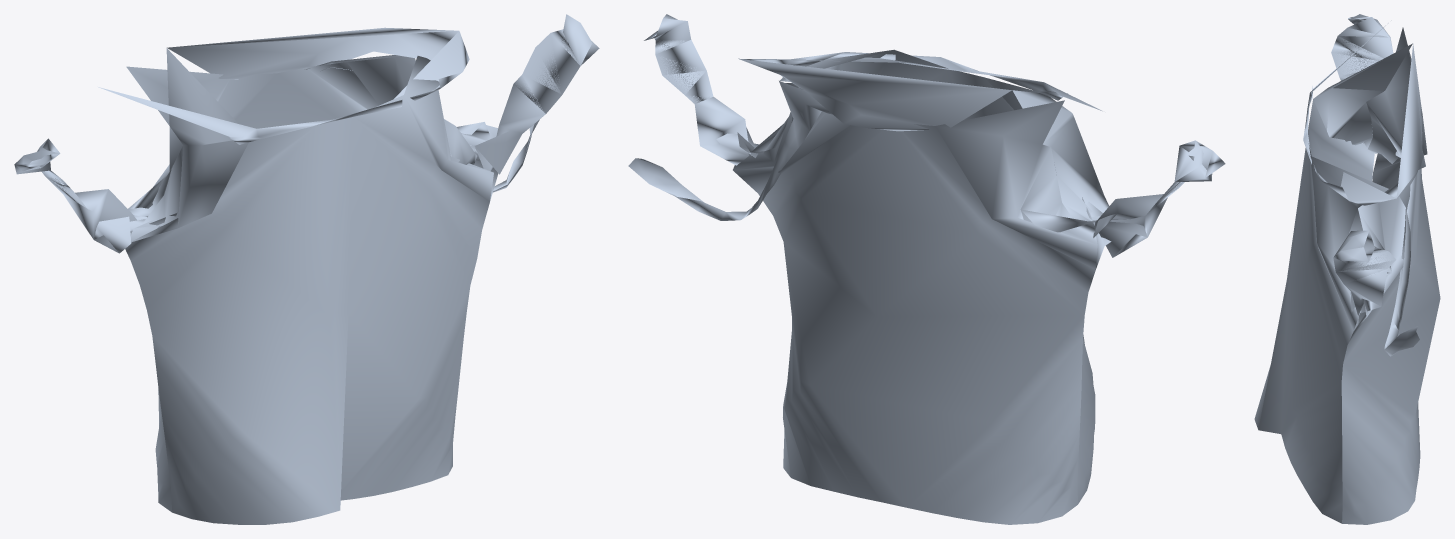
The model's file is frame_036.glb.
The picture shows the model from 3 angles, left to right: view 1: azimuth 30°, elevation 25°; view 2: azimuth 150°, elevation 25°; view 3: azimuth 270°, elevation 25°; orthographic projection. The views are drawn at different scales.
Parts seen in each view (by area): view 1: panel.front, panel.back, panel.neck_band, panel.sleeve.right, panel.sleeve.left; view 2: panel.back, panel.neck_band, panel.front, panel.sleeve.right, panel.sleeve.left; view 3: panel.front, panel.back, panel.neck_band, panel.sleeve.right, panel.sleeve.left.
Boxes of the visible parts, bbox=[...] form: panel.front: bbox=[125, 48, 493, 524]; panel.back: bbox=[126, 56, 498, 512]; panel.neck_band: bbox=[98, 27, 539, 192]; panel.sleeve.right: bbox=[475, 14, 599, 174]; panel.sleeve.left: bbox=[14, 138, 136, 253]; panel.back: bbox=[733, 83, 1097, 524]; panel.neck_band: bbox=[628, 52, 1102, 220]; panel.front: bbox=[780, 49, 1111, 503]; panel.sleeve.right: bbox=[644, 14, 753, 165]; panel.sleeve.left: bbox=[1093, 140, 1225, 257]; panel.front: bbox=[1254, 43, 1412, 523]; panel.back: bbox=[1341, 27, 1440, 524]; panel.neck_band: bbox=[1303, 20, 1425, 356]; panel.sleeve.right: bbox=[1333, 230, 1395, 315]; panel.sleeve.left: bbox=[1331, 14, 1393, 142].
Bounding box in the file's own units: 1.05 × 0.7809 × 0.347.
